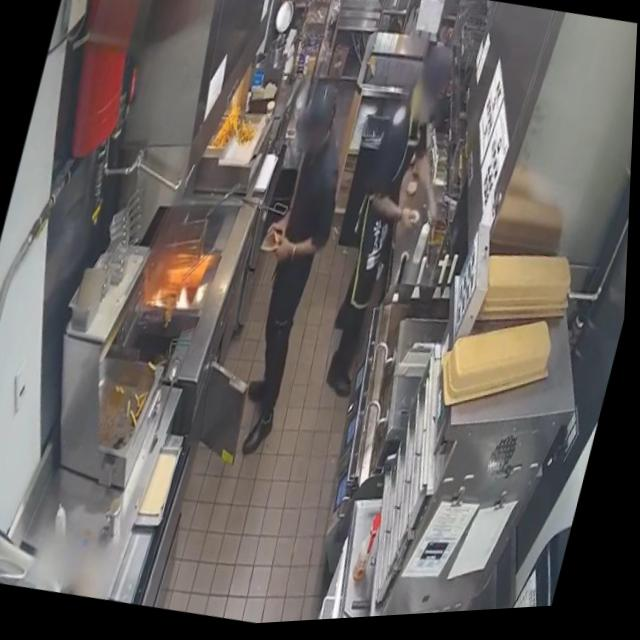fire: (177, 285, 195, 312), (153, 289, 172, 308)
